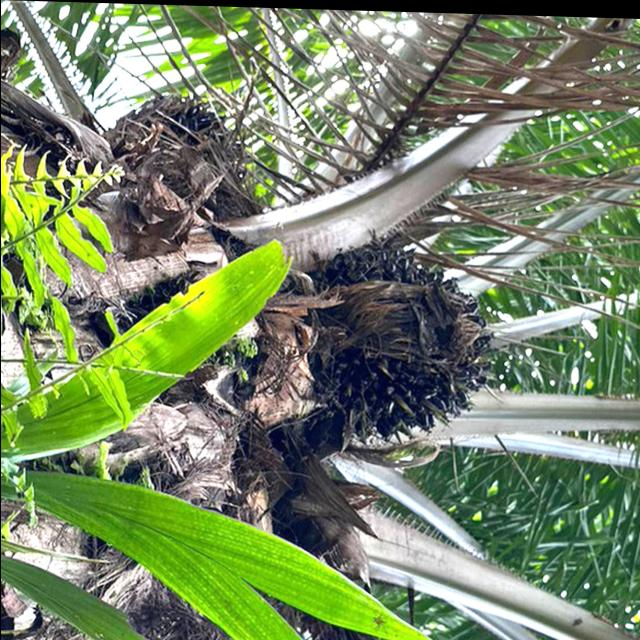unripe: (286, 233, 504, 458)
